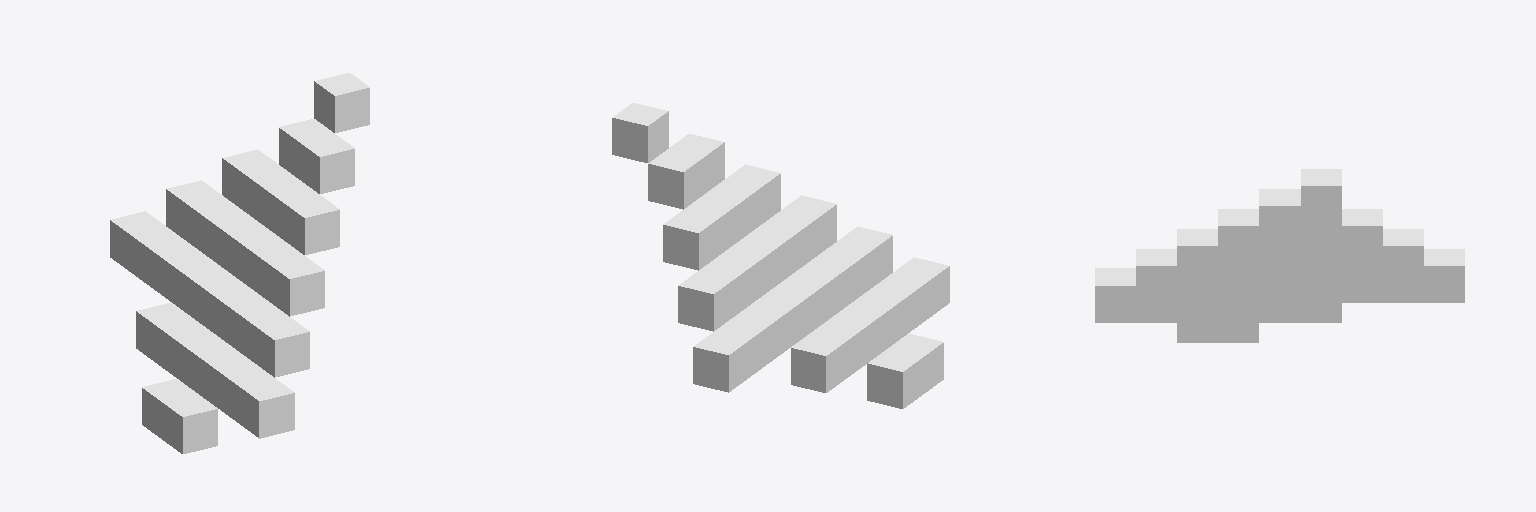
The model's file is YellowHouseParts-103.obj.
3 views of the same model, side by side, from view 1: azimuth 30°, elevation 25°; view 2: azimuth 150°, elevation 25°; view 3: azimuth 270°, elevation 25° (orthographic).
Parts seen in each view (by area): view 1: object 1; view 2: object 1; view 3: object 1.
Part boxes in pixels (bbox=[...]): object 1: bbox=[110, 73, 369, 453]; object 1: bbox=[612, 103, 949, 408]; object 1: bbox=[1095, 169, 1464, 342].
Bounding box in the file's own units: 0.7 × 0.7 × 0.9.